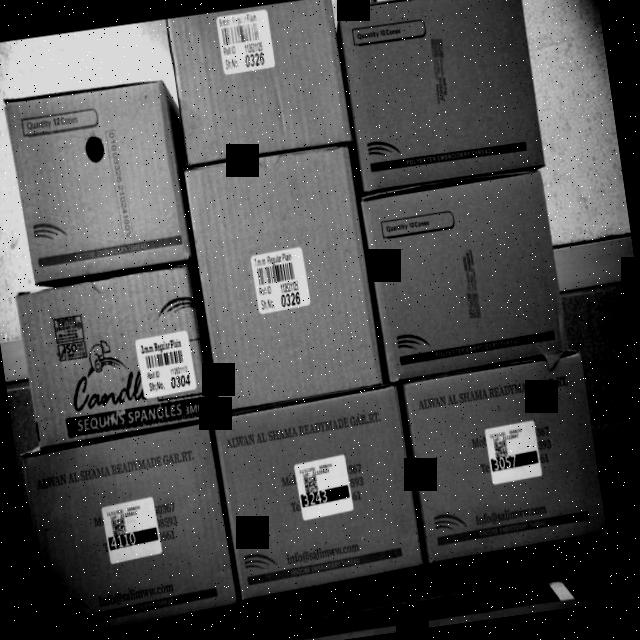box: (186, 155, 382, 406), (214, 390, 431, 606), (23, 435, 236, 640), (360, 178, 572, 380), (1, 67, 191, 289), (333, 0, 545, 191), (405, 359, 605, 560), (12, 270, 216, 452), (164, 0, 352, 165)
